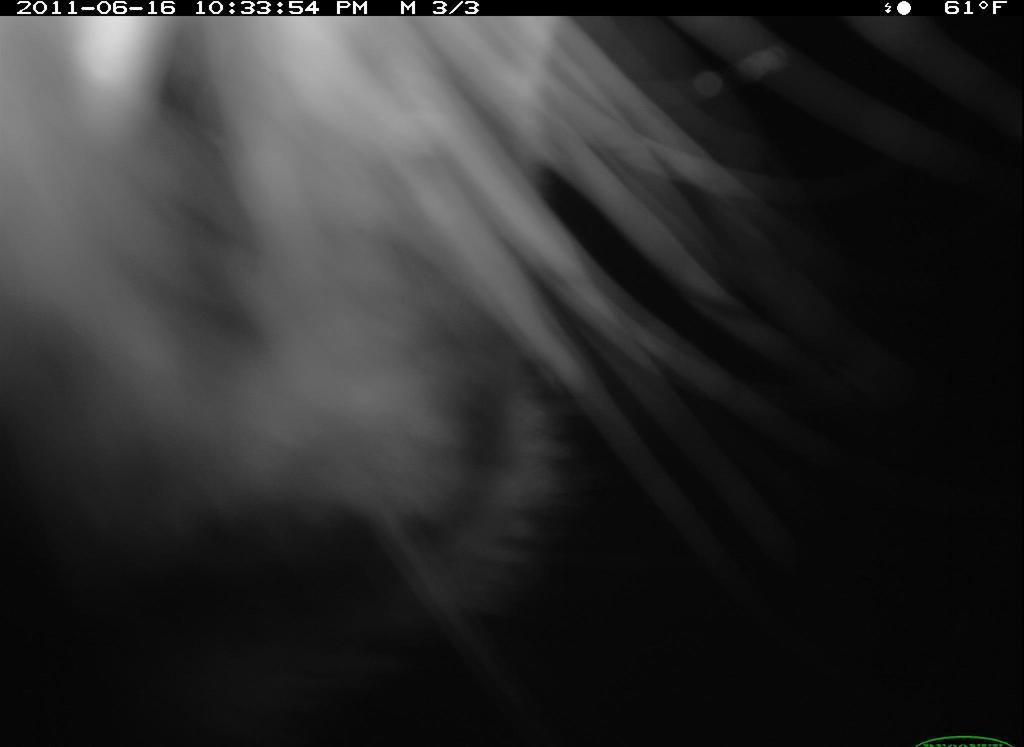raccoon: (1, 15, 977, 741)
